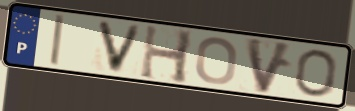H: (138, 23, 196, 86)
I: (48, 13, 67, 68)
O: (193, 35, 240, 86), (294, 48, 338, 100)
V: (244, 35, 297, 96), (95, 18, 146, 76)
